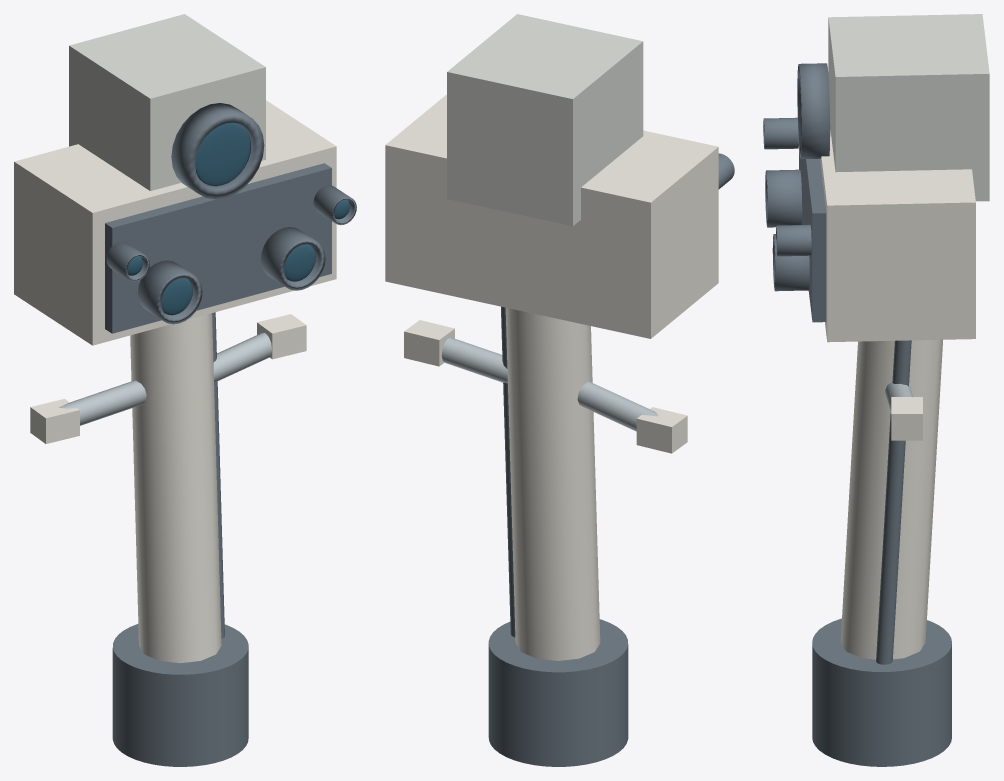
Rendered from perseverance_mast.glb.
3 views of the same model, side by side, from view 1: azimuth 30°, elevation 25°; view 2: azimuth 150°, elevation 25°; view 3: azimuth 270°, elevation 25° (orthographic). The views are drawn at different scales.
Visible parts, largest first — view 1: perseverance_mast.deployment.mesh_Warm_white_enamel, perseverance_mast.deployment.azimuth.head.mesh_Warm_white_en, perseverance_mast.deployment.azimuth.head.supercam.mesh_Pale, perseverance_mast.deployment.azimuth.head.mesh_Machined_stee, perseverance_mast.deployment.mesh_Machined_steel, perseverance_mast.deployment.azimuth.head.supercam.telescope (×2), perseverance_mast.deployment.azimuth.head.mastcam_z_r.mesh_M, perseverance_mast.deployment.azimuth.head.mastcam_z_l.mesh_M, perseverance_mast.deployment.meda_booms.boom_l.mesh_Satin_al, perseverance_mast.deployment.meda_booms.boom_l.mesh_Warm_whi, perseverance_mast.deployment.meda_booms.boom_r.mesh_Satin_al, perseverance_mast.deployment.meda_booms.boom_r.mesh_Warm_whi (+4 smaller); view 2: perseverance_mast.deployment.azimuth.head.mesh_Warm_white_en, perseverance_mast.deployment.azimuth.head.supercam.mesh_Pale, perseverance_mast.deployment.mesh_Warm_white_enamel, perseverance_mast.deployment.mesh_Machined_steel, perseverance_mast.deployment.meda_booms.boom_l.mesh_Warm_whi, perseverance_mast.deployment.meda_booms.boom_l.mesh_Satin_al, perseverance_mast.deployment.meda_booms.boom_r.mesh_Satin_al, perseverance_mast.deployment.meda_booms.boom_r.mesh_Warm_whi; view 3: perseverance_mast.deployment.azimuth.head.mesh_Warm_white_en, perseverance_mast.deployment.azimuth.head.supercam.mesh_Pale, perseverance_mast.deployment.mesh_Warm_white_enamel, perseverance_mast.deployment.mesh_Machined_steel, perseverance_mast.deployment.azimuth.head.mesh_Machined_stee, perseverance_mast.deployment.azimuth.head.supercam.telescope, perseverance_mast.deployment.azimuth.head.mastcam_z_l.mesh_M, perseverance_mast.deployment.meda_booms.boom_r.mesh_Warm_whi, perseverance_mast.deployment.azimuth.head.mastcam_z_r.mesh_M, perseverance_mast.deployment.azimuth.head.navcam_r.mesh_Mach, perseverance_mast.deployment.azimuth.head.navcam_l.mesh_Mach.
Part boxes in pixels (x1,y1,x2,y2): perseverance_mast.deployment.mesh_Warm_white_enamel: (130,313,221,663); perseverance_mast.deployment.azimuth.head.mesh_Warm_white_en: (14,100,336,345); perseverance_mast.deployment.azimuth.head.supercam.mesh_Pale: (69,14,265,190); perseverance_mast.deployment.azimuth.head.mesh_Machined_stee: (105,163,331,333); perseverance_mast.deployment.mesh_Machined_steel: (112,312,248,766); perseverance_mast.deployment.azimuth.head.supercam.telescope (×2): (171,103,264,199); perseverance_mast.deployment.azimuth.head.mastcam_z_r.mesh_M: (260,227,325,290); perseverance_mast.deployment.azimuth.head.mastcam_z_l.mesh_M: (138,260,202,324); perseverance_mast.deployment.meda_booms.boom_l.mesh_Satin_al: (59,380,146,425); perseverance_mast.deployment.meda_booms.boom_l.mesh_Warm_whi: (30,399,79,443); perseverance_mast.deployment.meda_booms.boom_r.mesh_Satin_al: (213,332,271,382); perseverance_mast.deployment.meda_booms.boom_r.mesh_Warm_whi: (257,314,306,359); perseverance_mast.deployment.azimuth.head.mesh_Warm_white_en: (385,94,718,338); perseverance_mast.deployment.azimuth.head.supercam.mesh_Pale: (447,14,643,226); perseverance_mast.deployment.mesh_Warm_white_enamel: (505,307,600,660); perseverance_mast.deployment.mesh_Machined_steel: (488,306,628,766); perseverance_mast.deployment.meda_booms.boom_l.mesh_Warm_whi: (636,407,687,453); perseverance_mast.deployment.meda_booms.boom_l.mesh_Satin_al: (577,381,658,431); perseverance_mast.deployment.meda_booms.boom_r.mesh_Satin_al: (441,337,507,383); perseverance_mast.deployment.meda_booms.boom_r.mesh_Warm_whi: (404,320,454,366); perseverance_mast.deployment.azimuth.head.mesh_Warm_white_en: (820,130,975,342); perseverance_mast.deployment.azimuth.head.supercam.mesh_Pale: (828,14,989,201); perseverance_mast.deployment.mesh_Warm_white_enamel: (840,339,942,659); perseverance_mast.deployment.mesh_Machined_steel: (812,340,951,766); perseverance_mast.deployment.azimuth.head.mesh_Machined_stee: (799,149,826,322); perseverance_mast.deployment.azimuth.head.supercam.telescope: (797,63,830,159); perseverance_mast.deployment.azimuth.head.mastcam_z_l.mesh_M: (765,169,802,227); perseverance_mast.deployment.meda_booms.boom_r.mesh_Warm_whi: (891,397,922,440); perseverance_mast.deployment.azimuth.head.mastcam_z_r.mesh_M: (772,234,809,291); perseverance_mast.deployment.azimuth.head.navcam_r.mesh_Mach: (776,224,811,256); perseverance_mast.deployment.azimuth.head.navcam_l.mesh_Mach: (763,117,798,149).
Bounding box in the file's own units: 0.518 × 1.28 × 0.3784.
